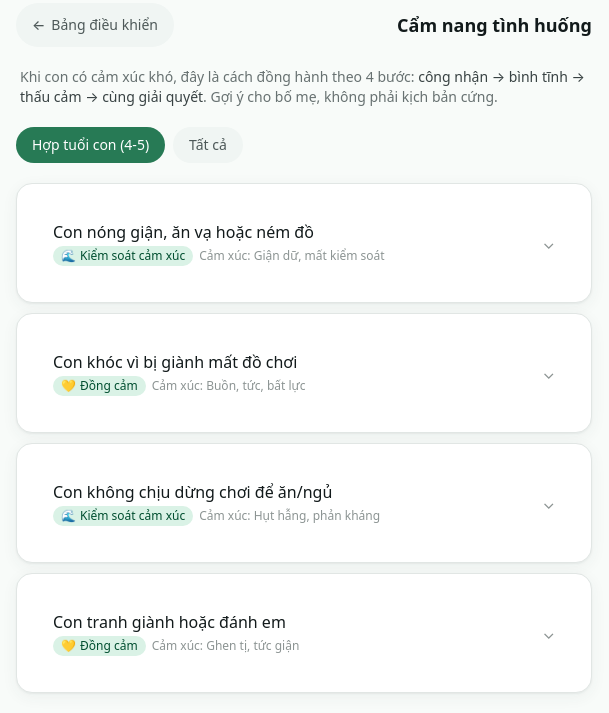
ParentSituations › expands a scenario to reveal the 4-step guidance
Expected: the text "Công nhận cảm xúc" is not shown
Click the button "Con khóc vì bị giành mất đồ chơi" at x=175, y=362, box [37,334,571,412]
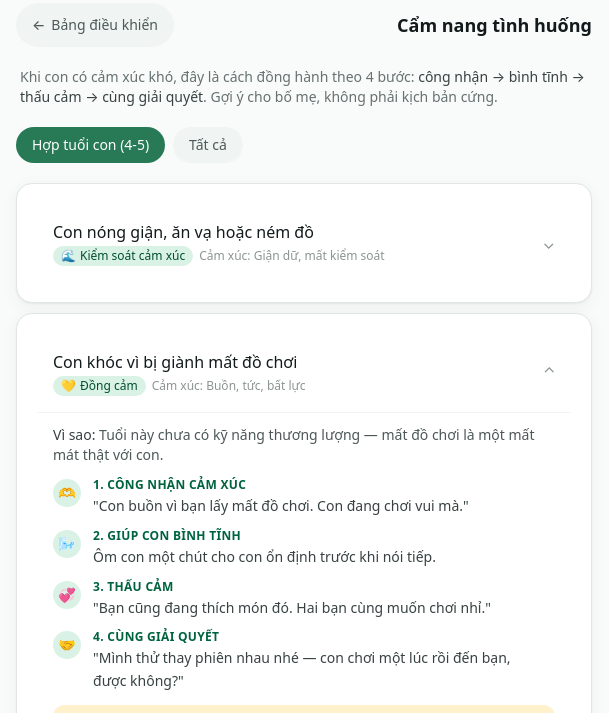
Expected: the text "1. Công nhận cảm xúc" is shown, [93,476,246,493]
Expected: the text "4. Cùng giải quyết" is shown, [93,628,219,645]
